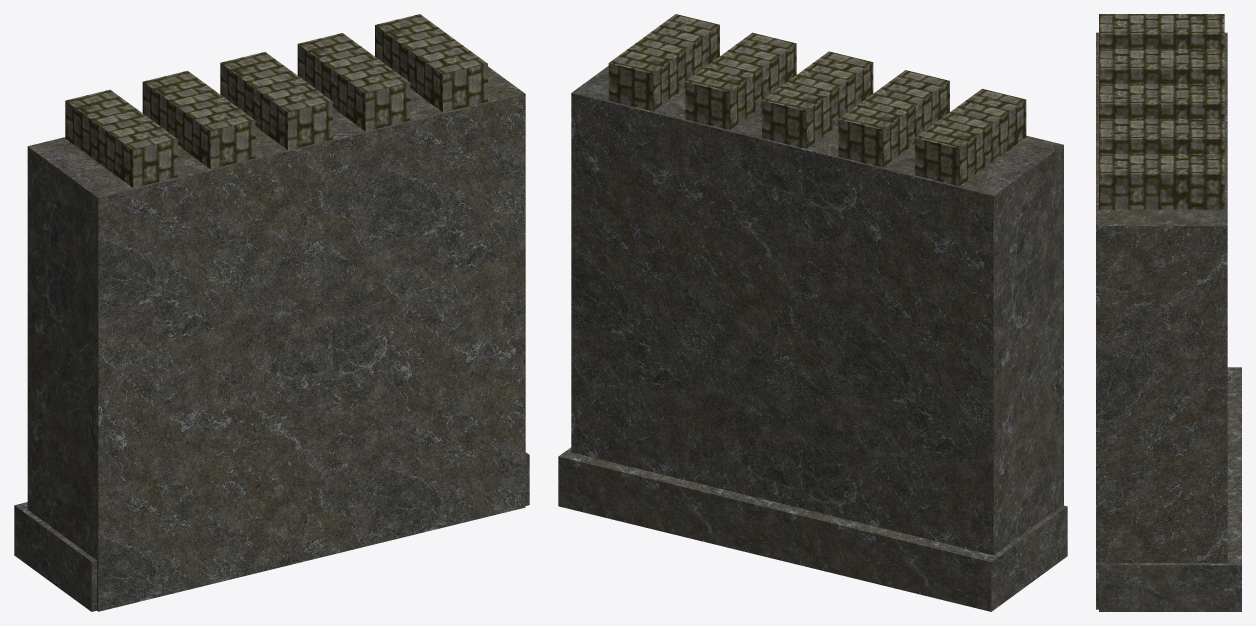
The model's file is wall_segment.glb.
The picture shows the model from 3 angles, left to right: view 1: azimuth 30°, elevation 25°; view 2: azimuth 150°, elevation 25°; view 3: azimuth 270°, elevation 25°; orthographic projection. The views are drawn at different scales.
Visible parts, largest first — view 1: wall_segment; view 2: wall_segment; view 3: wall_segment.
Boxes of the visible parts, left/top/right/bottom form: wall_segment: left=14, top=14, right=529, bottom=611; wall_segment: left=558, top=14, right=1067, bottom=611; wall_segment: left=1096, top=14, right=1241, bottom=611.
Bounding box in the file's own units: 8.2 × 8.08 × 2.55.
Materials: 3 (3 with a texture image).
